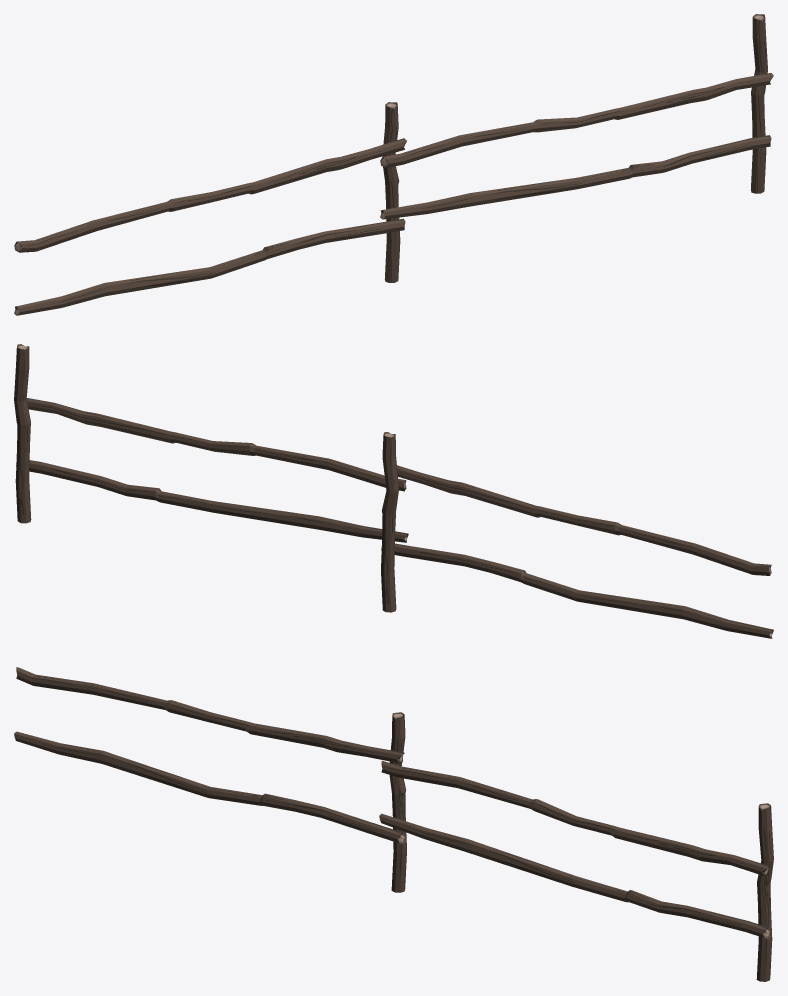
The model's file is fence.fbx.
The picture shows the model from 3 angles, top to bottom: view 1: azimuth 30°, elevation 25°; view 2: azimuth 150°, elevation 25°; view 3: azimuth 330°, elevation 25°; orthographic projection.
Parts seen in each view (by area): view 1: fence_2, fence_1; view 2: fence_1, fence_2; view 3: fence_2, fence_1.
Boxes of the visible parts, left/top/right/bottom form: fence_2: left=380, top=14, right=773, bottom=219; fence_1: left=14, top=102, right=406, bottom=315; fence_1: left=381, top=432, right=773, bottom=638; fence_2: left=14, top=344, right=408, bottom=542; fence_2: left=379, top=761, right=773, bottom=981; fence_1: left=14, top=667, right=406, bottom=892.
Bounding box in the file's own units: 758 × 169 × 18.35.
